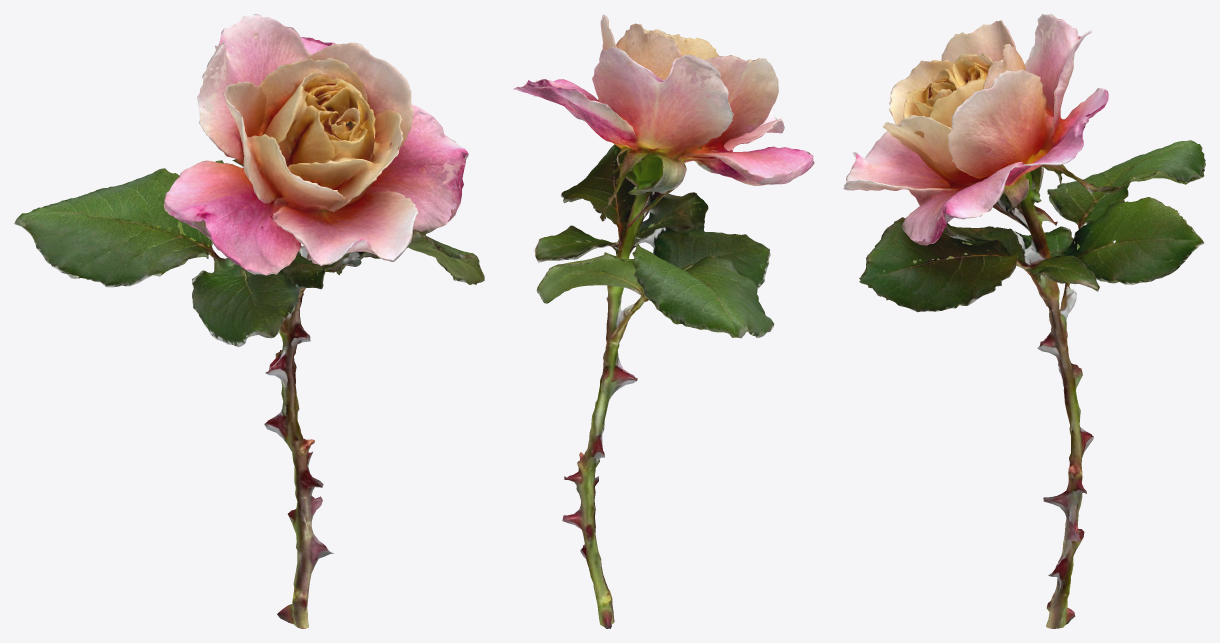
Rendered from 2rose.glb.
3 renders of one model, left to right at view 1: azimuth 30°, elevation 25°; view 2: azimuth 150°, elevation 25°; view 3: azimuth 270°, elevation 25°, orthographic. The views are drawn at different scales.
Visible parts, largest first — view 1: Object_2; view 2: Object_2; view 3: Object_2.
Boxes of the visible parts, x1,y1,x2,y2 form: Object_2: (14,14,484,628); Object_2: (513,14,814,628); Object_2: (843,14,1205,628).
Bounding box in the file's own units: 0.3891 × 0.6888 × 0.3912.
1 material, 1 textured.
